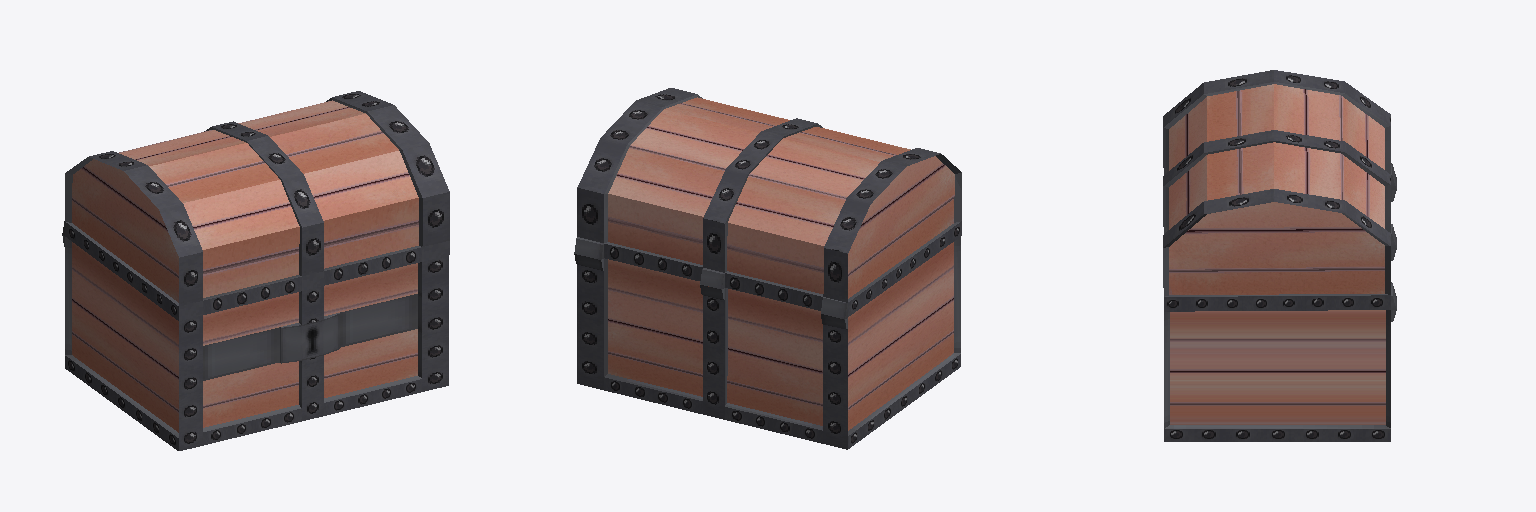
3 renders of one model, left to right at view 1: azimuth 30°, elevation 25°; view 2: azimuth 150°, elevation 25°; view 3: azimuth 270°, elevation 25°, orthographic.
Parts seen in each view (by area): view 1: ChestTop Chest, Chest ChestBottom; view 2: ChestTop Chest, Chest ChestBottom; view 3: ChestTop Chest, Chest ChestBottom.
Boxes of the visible parts, box(x1,y1,x2,y2) form: ChestTop Chest: box(62, 91, 449, 320); Chest ChestBottom: box(62, 234, 448, 450); ChestTop Chest: box(574, 88, 961, 319); Chest ChestBottom: box(574, 237, 960, 449); ChestTop Chest: box(1163, 70, 1396, 311); Chest ChestBottom: box(1164, 190, 1396, 441).
Bounding box in the file's own units: 1.96 × 1.66 × 1.47.
1 materials, 1 textured.